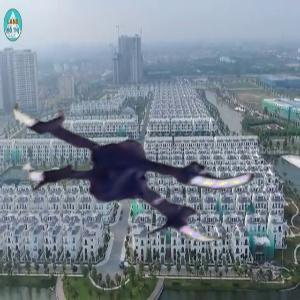drone: (13, 29, 259, 275)
